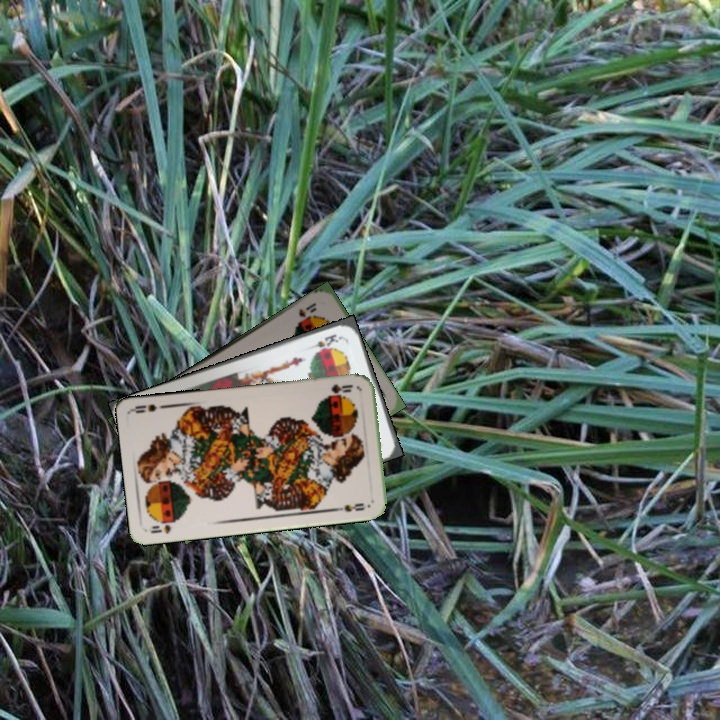SK: (304, 330, 344, 352)
SO: (293, 298, 319, 326), (322, 380, 355, 399), (147, 520, 173, 537)
